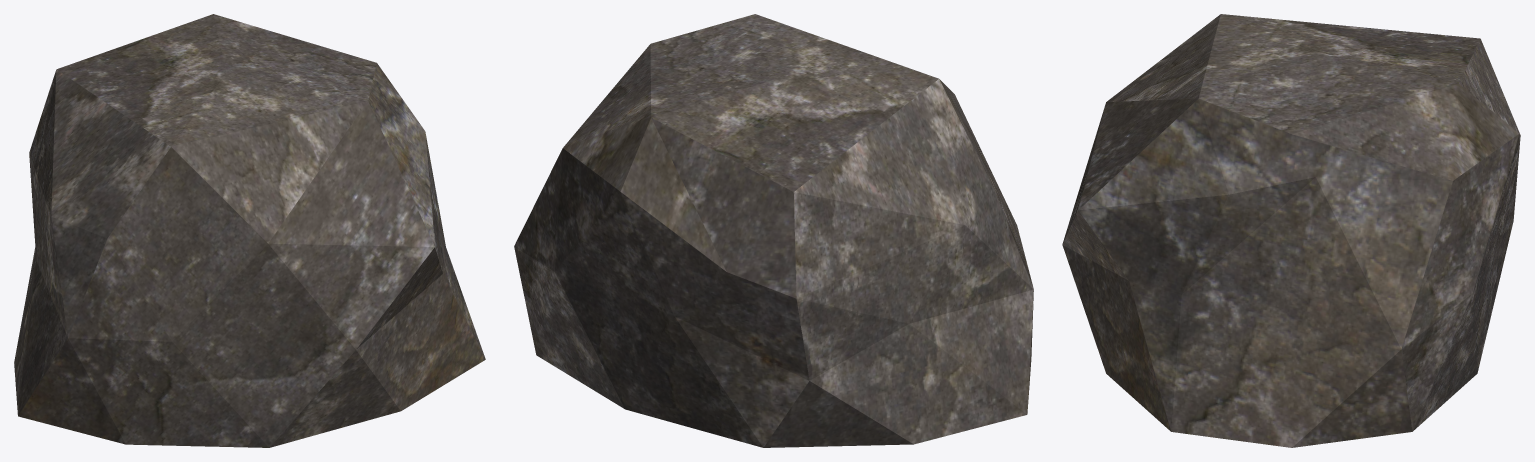
Rendered from steen_2.fbx.
3 views of the same model, side by side, from view 1: azimuth 30°, elevation 25°; view 2: azimuth 150°, elevation 25°; view 3: azimuth 270°, elevation 25° (orthographic). The views are drawn at different scales.
Parts seen in each view (by area): view 1: Icosphere; view 2: Icosphere; view 3: Icosphere.
Part boxes in pixels (bbox=[...]): Icosphere: bbox=[14, 14, 485, 447]; Icosphere: bbox=[514, 14, 1033, 447]; Icosphere: bbox=[1062, 14, 1520, 447].
Bounding box in the file's own units: 341 × 204 × 300.
